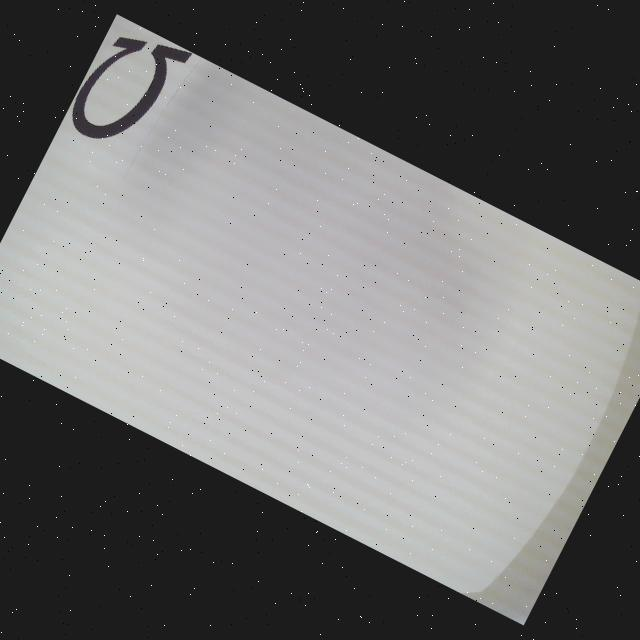OMEGA: (62, 15, 193, 164)
